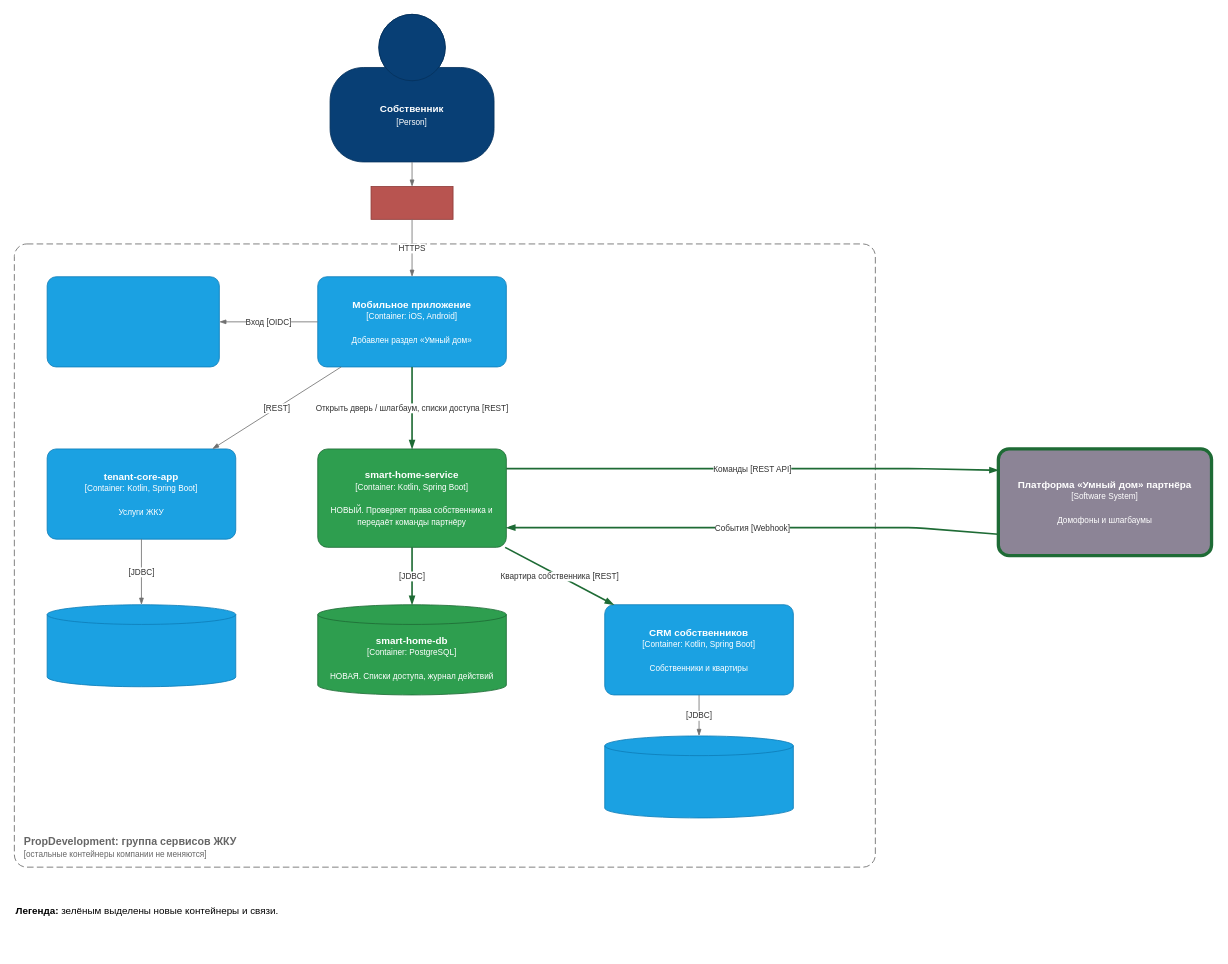
The diagram is 1228 pixels wide and 964 high, and some of its shapes have lost their labels. Each missing label, with the centre of its shape:
auth-service-1 [Container: Keycloak] Аутентификация: the point at 132,321
crm-tenant-db [Container: PostgreSQL]: the point at 698,776
Firewall: the point at 411,202
tenant-core-db [Container: PostgreSQL]: the point at 141,645
